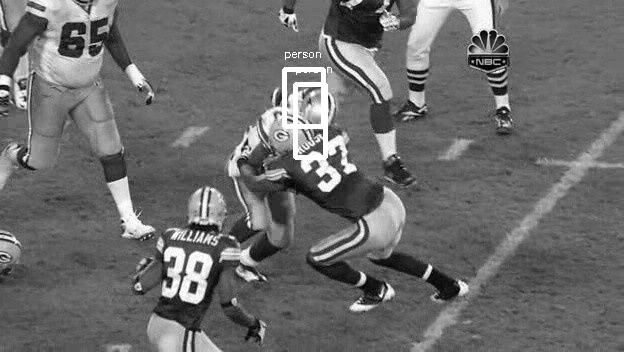person: (299, 90, 335, 136), (298, 90, 334, 136), (300, 90, 336, 136), (299, 89, 335, 135), (299, 91, 335, 137)
target_negative: (158, 167, 600, 334), (206, 160, 348, 284), (44, 339, 418, 347), (271, 164, 322, 192), (421, 244, 590, 252), (158, 328, 167, 349)
